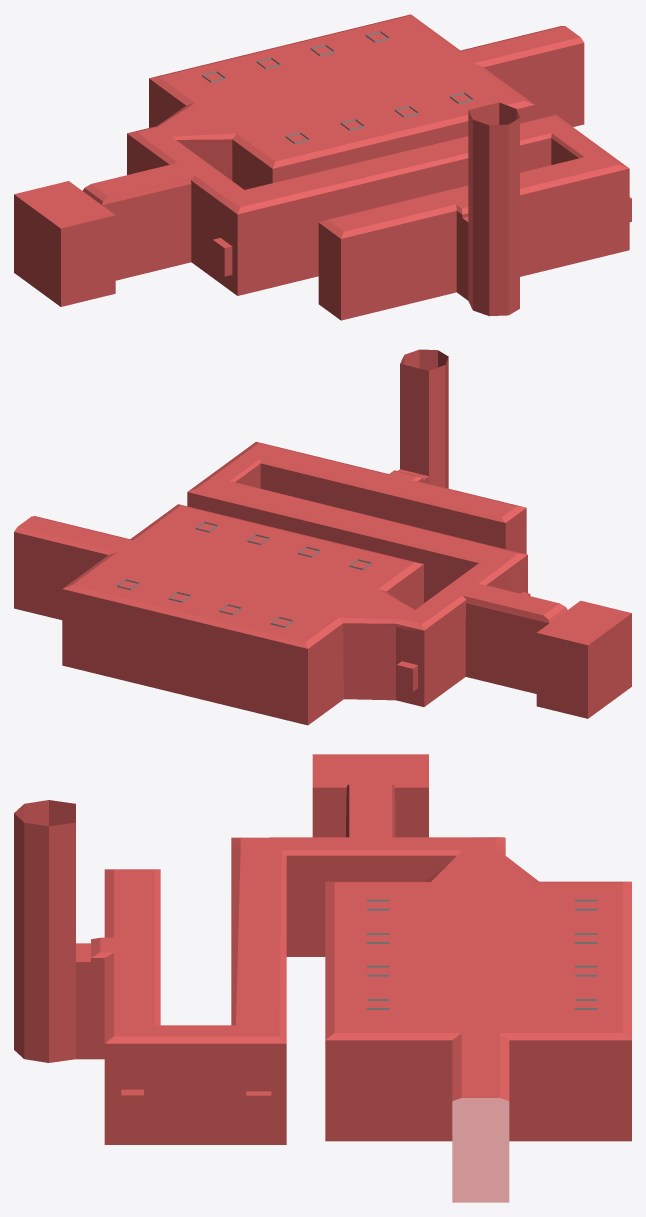
The model's file is level1.fbx.
The picture shows the model from 3 angles, top to bottom: view 1: azimuth 30°, elevation 25°; view 2: azimuth 150°, elevation 25°; view 3: azimuth 270°, elevation 25°; orthographic projection. The views are drawn at different scales.
Visible parts, largest first — view 1: pCylinder1, pCube9; view 2: pCylinder1, pCube9; view 3: pCylinder1, pCube9.
Part boxes in pixels (x1,y1,x2,y2): pCylinder1: (14, 14, 631, 320); pCube9: (202, 31, 473, 143); pCylinder1: (14, 349, 631, 725); pCube9: (117, 521, 371, 627); pCylinder1: (14, 754, 631, 1202); pCube9: (367, 899, 597, 1009).
Bounding box in the file's own units: 73.06 × 22.98 × 54.4.
